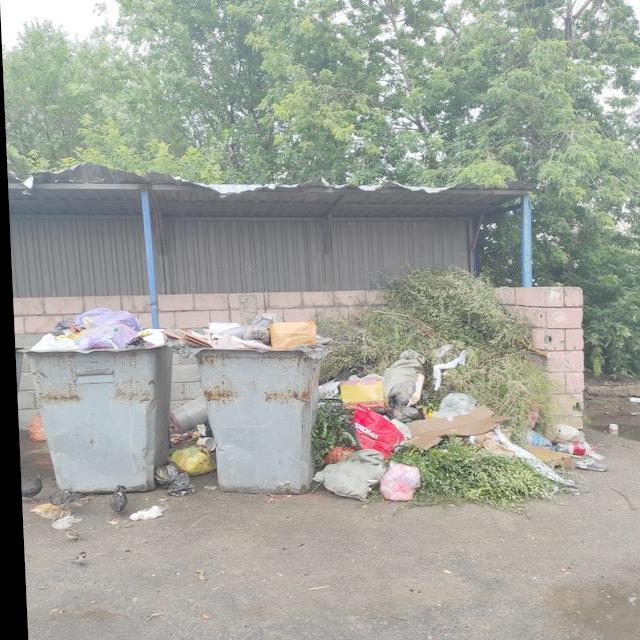Trash_Can_Full: (24, 306, 167, 492), (193, 312, 327, 491)
